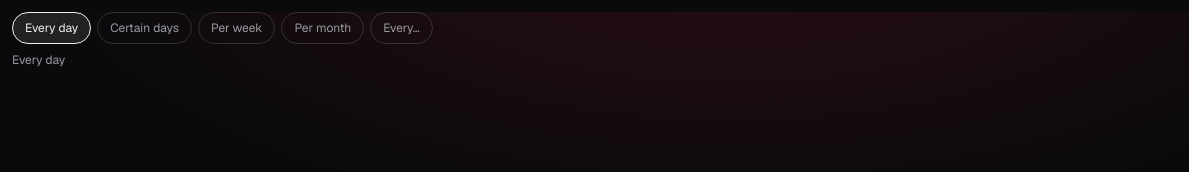
Scenario: FrequencyPicker › 'Per week' and 'Per month' take a count, with the valid range enforced in the summary
Click the radio button labelled "Per week" at x=237, y=28, box left=198, top=12, right=275, bottom=44
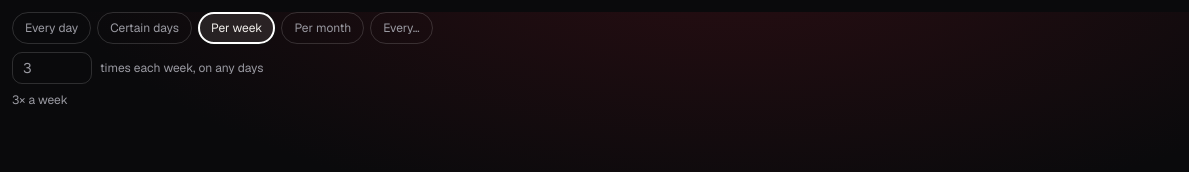
Check: the number field named "Times per week" holds "3"
Replace the text in the number field named "Times per week" with "2" at x=52, y=68, box left=12, top=52, right=92, bottom=84
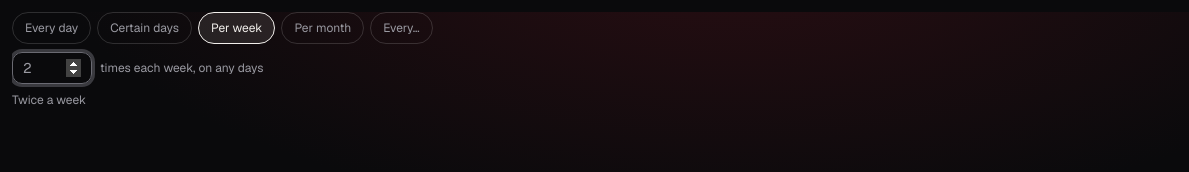
Check: the text with test id "frequency-summary" reads "Twice a week", box left=12, top=92, right=86, bottom=108
Replace the text in the number field named "Times per week" with "7" at x=52, y=68, box left=12, top=52, right=92, bottom=84
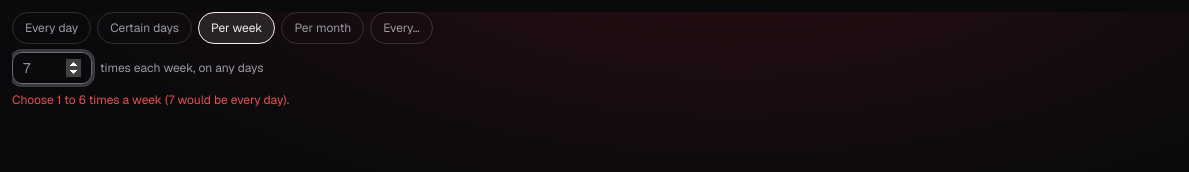
Check: the text with test id "frequency-summary" shows "1 to 6 times a week", box left=12, top=92, right=289, bottom=108
Click the radio button labelled "Per month" at x=323, y=28, box left=281, top=12, right=364, bottom=44
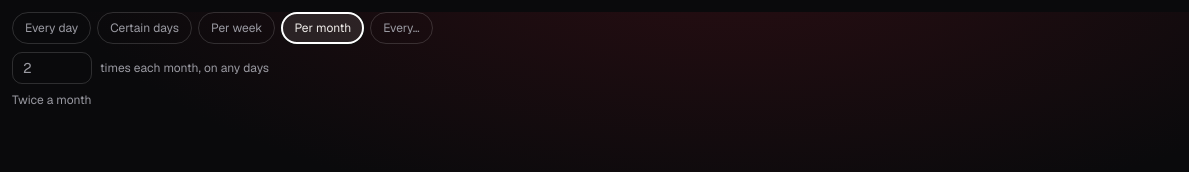
Check: the text with test id "frequency-summary" reads "Twice a month", box left=12, top=92, right=91, bottom=108
